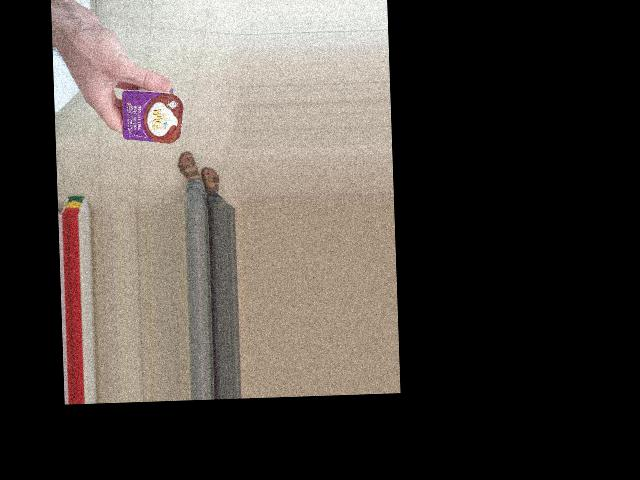milky: (117, 69, 182, 146)
